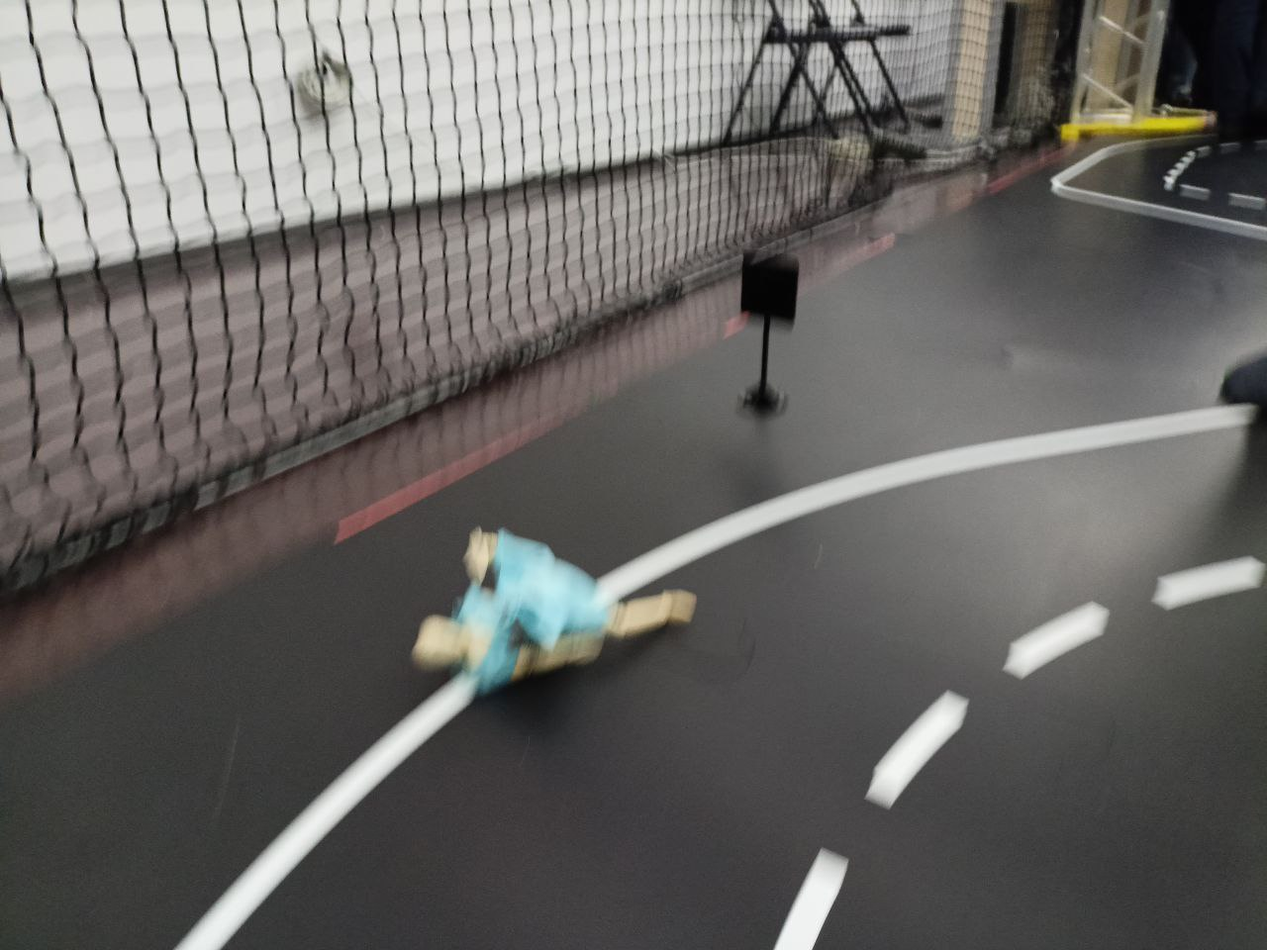Road works: (385, 519, 705, 700)
